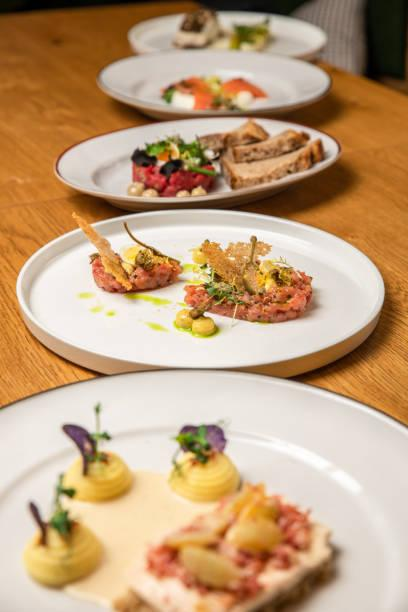Braised Crucian Carp: (0, 368, 404, 602), (19, 207, 383, 375), (54, 116, 347, 211)
